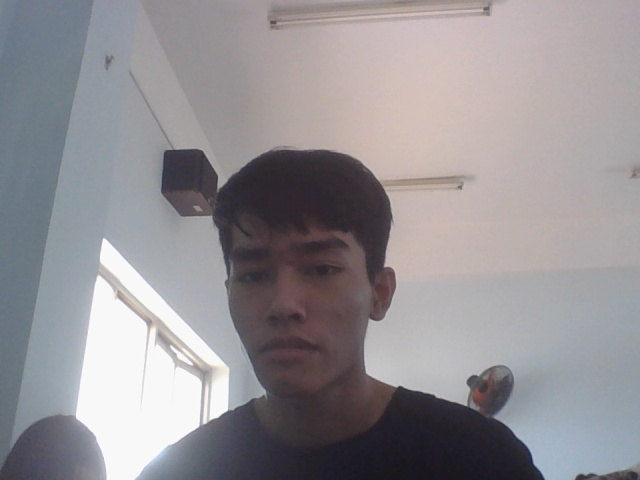real: (206, 135, 401, 412)
